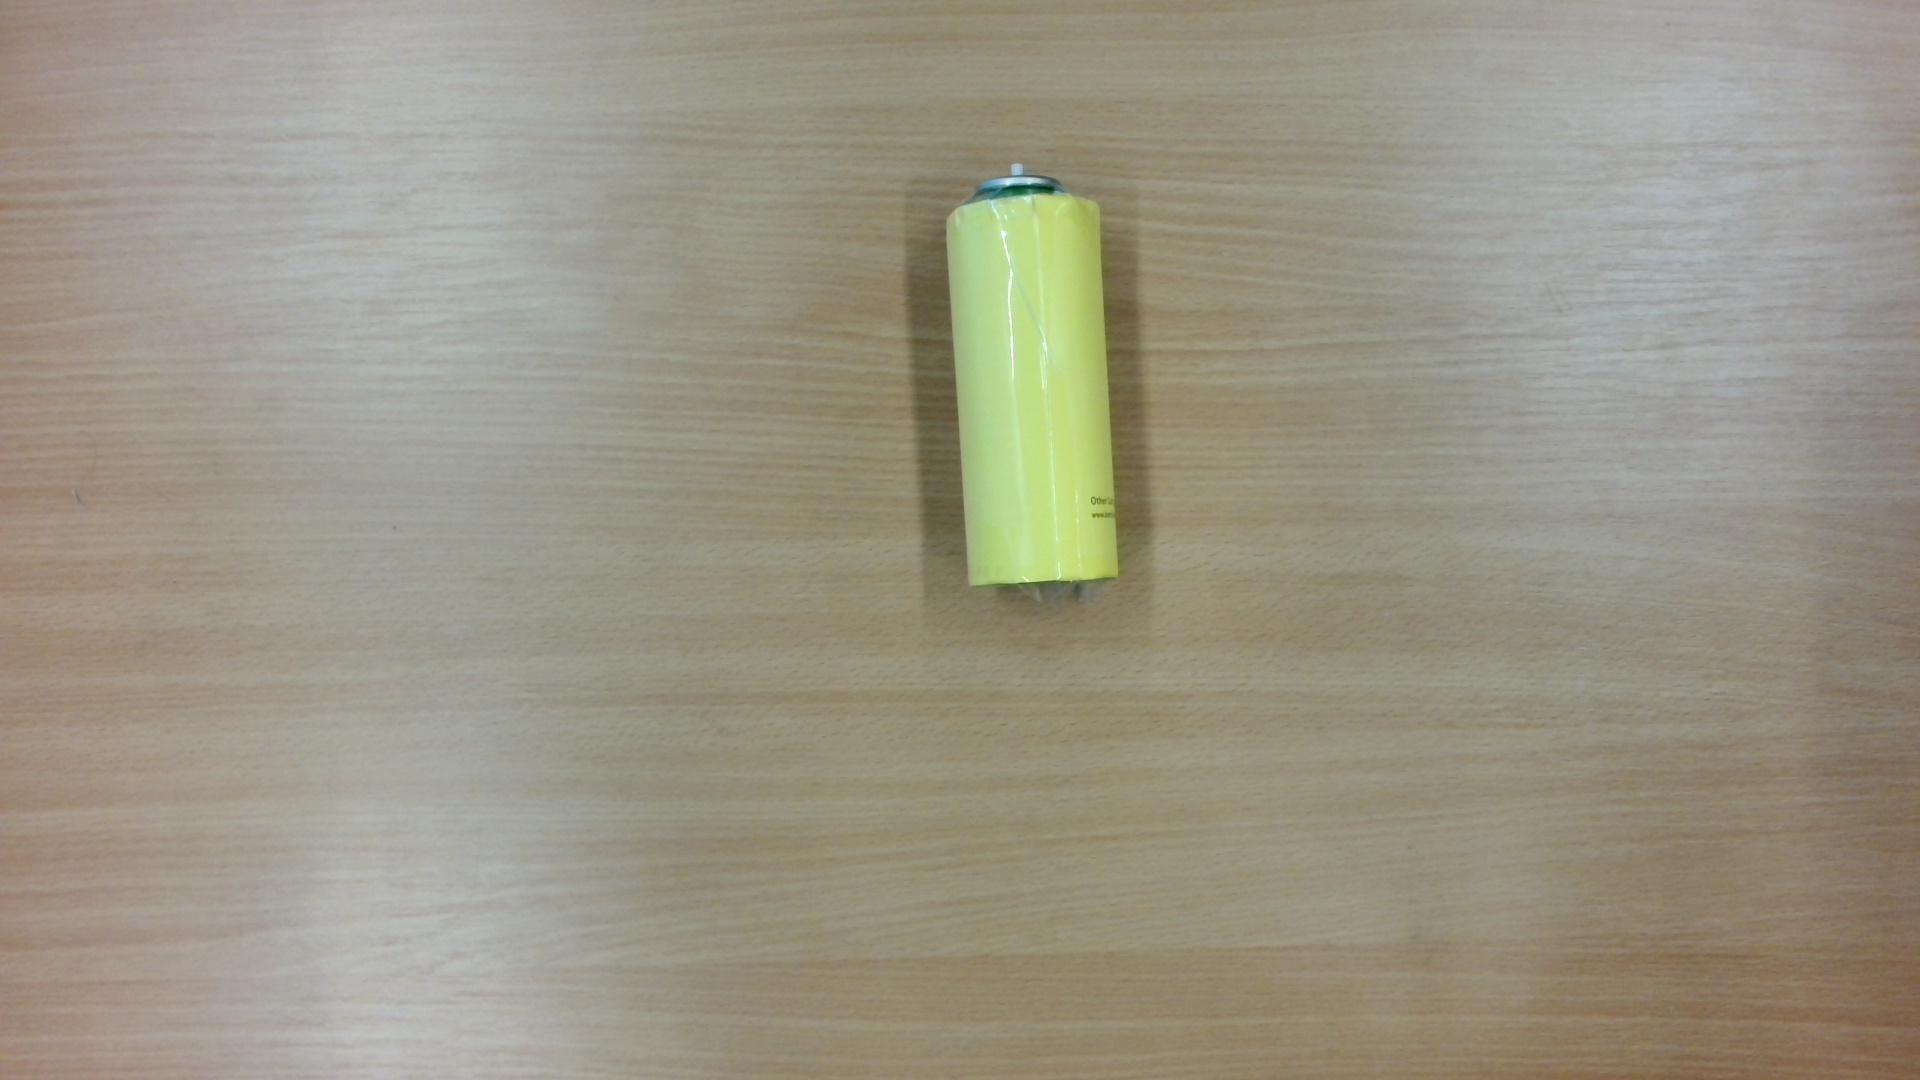Cylinder: (927, 154, 1145, 613)
